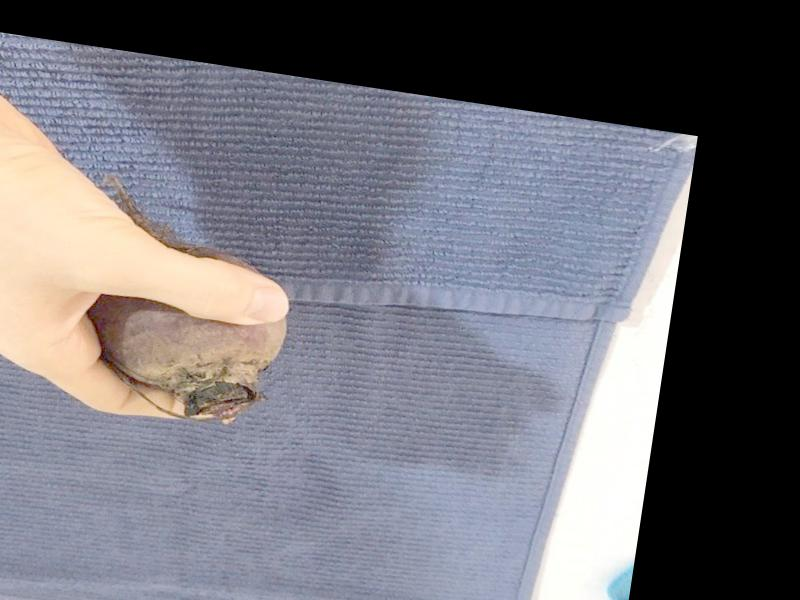Beet: (79, 172, 306, 430)
